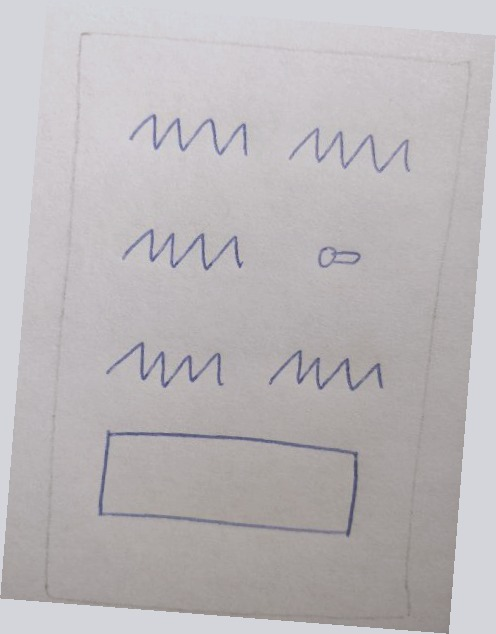switch: (307, 229, 373, 276)
text: (107, 211, 256, 287), (93, 327, 237, 402), (257, 334, 396, 408), (282, 115, 421, 185), (121, 96, 264, 162)
text_input: (88, 416, 376, 547)
